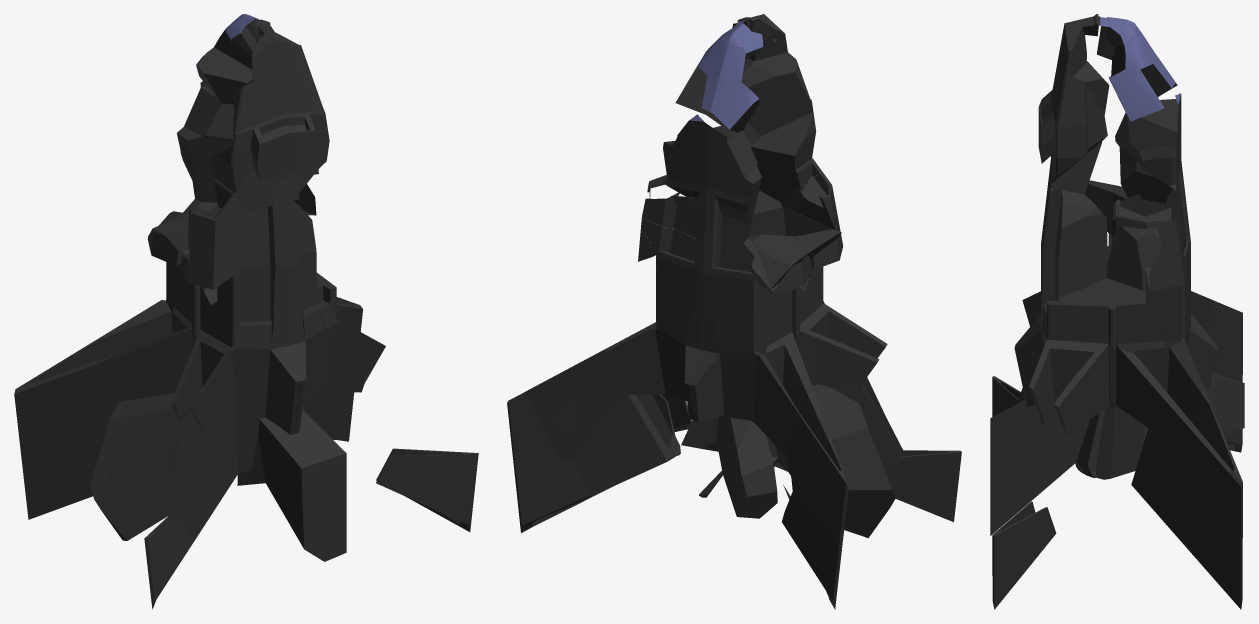
The model's file is ShipsDead.fbx.
The picture shows the model from 3 angles, left to right: view 1: azimuth 30°, elevation 25°; view 2: azimuth 150°, elevation 25°; view 3: azimuth 270°, elevation 25°; orthographic projection. The views are drawn at different scales.
Visible parts, largest first — view 1: Cylinder_cell.017, Cylinder_cell.063, Cylinder_cell.052, Cylinder_cell.096, Cylinder_cell.043, Cylinder_cell.080, Cylinder_cell.030, Cylinder_cell.077, Cylinder_cell.031, Cylinder_cell.057, Cylinder_cell.037, Cylinder_cell.027 (+17 smaller); view 2: Cylinder_cell.038, Cylinder_cell.017, Cylinder_cell.091, Cylinder_cell.100, Cylinder_cell.047, Cylinder_cell.052, Cylinder_cell.088, Cylinder_cell.096, Cylinder_cell.068, Cylinder_cell.001, Cylinder_cell.030, Cylinder_cell.057 (+26 smaller); view 3: Cylinder_cell.045, Cylinder_cell.063, Cylinder_cell.080, Cylinder_cell.116, Cylinder_cell.056, Cylinder_cell.038, Cylinder_cell.031, Cylinder_cell.062, Cylinder_cell.072, Cylinder_cell.047, Cylinder_cell.084, Cylinder_cell.028 (+27 smaller).
Boxes of the visible parts, x1,y1,x2,y2 form: Cylinder_cell.017: [90, 393, 235, 540]; Cylinder_cell.063: [258, 410, 346, 561]; Cylinder_cell.052: [171, 301, 287, 429]; Cylinder_cell.096: [14, 345, 119, 451]; Cylinder_cell.043: [237, 310, 364, 434]; Cylinder_cell.080: [247, 202, 316, 320]; Cylinder_cell.030: [102, 270, 217, 401]; Cylinder_cell.077: [179, 410, 259, 542]; Cylinder_cell.031: [376, 448, 478, 531]; Cylinder_cell.057: [209, 145, 298, 226]; Cylinder_cell.037: [21, 441, 102, 512]; Cylinder_cell.027: [233, 74, 303, 150]; Cylinder_cell.038: [602, 300, 702, 420]; Cylinder_cell.017: [775, 384, 895, 538]; Cylinder_cell.091: [572, 393, 680, 495]; Cylinder_cell.100: [525, 353, 622, 460]; Cylinder_cell.047: [679, 236, 772, 319]; Cylinder_cell.052: [800, 268, 887, 385]; Cylinder_cell.088: [734, 302, 803, 455]; Cylinder_cell.096: [786, 416, 848, 542]; Cylinder_cell.068: [716, 415, 777, 518]; Cylinder_cell.001: [689, 315, 749, 422]; Cylinder_cell.030: [748, 304, 820, 433]; Cylinder_cell.057: [750, 112, 821, 201]; Cylinder_cell.045: [1029, 290, 1112, 434]; Cylinder_cell.063: [990, 400, 1089, 535]; Cylinder_cell.080: [1041, 188, 1107, 302]; Cylinder_cell.116: [1131, 428, 1203, 552]; Cylinder_cell.056: [1080, 278, 1165, 384]; Cylinder_cell.038: [1161, 288, 1217, 420]; Cylinder_cell.031: [992, 501, 1056, 609]; Cylinder_cell.062: [1165, 406, 1231, 524]; Cylinder_cell.072: [1109, 331, 1177, 431]; Cylinder_cell.047: [1106, 214, 1190, 292]; Cylinder_cell.084: [1054, 75, 1087, 175]; Cylinder_cell.028: [1095, 405, 1144, 479].
Size of the model in its own units: 1259 by 1772 by 790.
